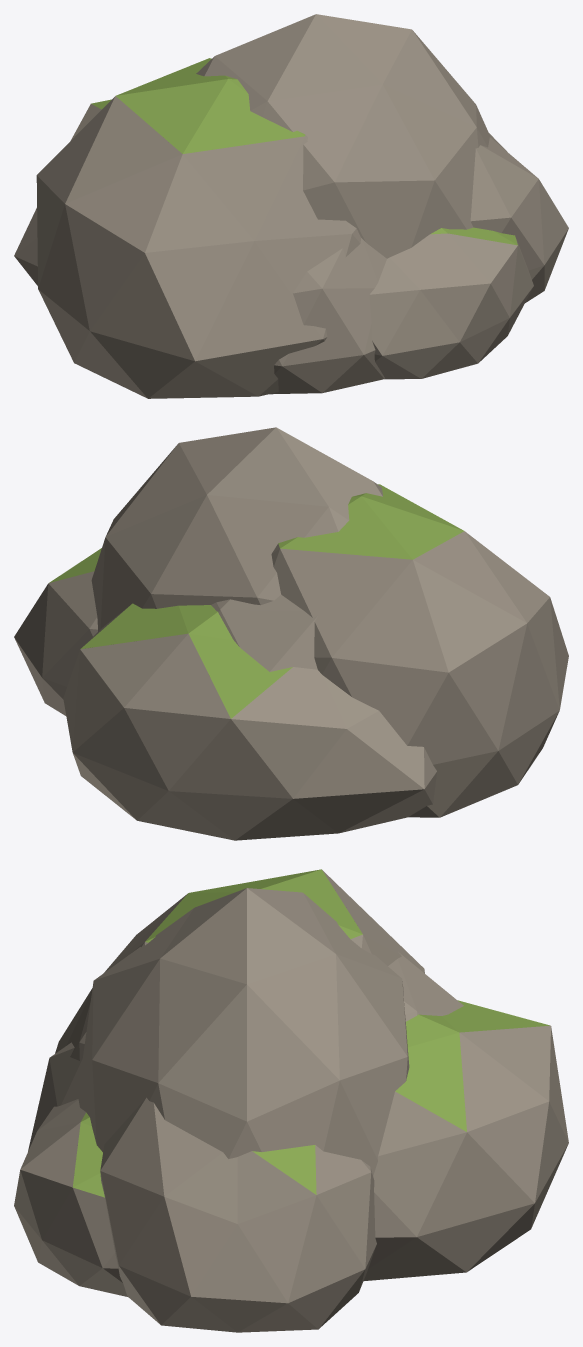
Rendered from cliff.glb.
The picture shows the model from 3 angles, top to bottom: view 1: azimuth 30°, elevation 25°; view 2: azimuth 150°, elevation 25°; view 3: azimuth 270°, elevation 25°; orthographic projection. The views are drawn at different scales.
Parts seen in each view (by area): view 1: cliff_variant_1, cliff_variant_2; view 2: cliff_variant_2, cliff_variant_1, cliff_variant_0; view 3: cliff_variant_2, cliff_variant_1, cliff_variant_0.
Boxes of the visible parts, left/top/right/bottom form: cliff_variant_1: left=36, top=58, right=533, bottom=398; cliff_variant_2: left=14, top=14, right=568, bottom=394; cliff_variant_2: left=14, top=427, right=436, bottom=840; cliff_variant_1: left=271, top=484, right=568, bottom=817; cliff_variant_0: left=209, top=594, right=318, bottom=675; cliff_variant_2: left=28, top=888, right=568, bottom=1332; cliff_variant_1: left=14, top=869, right=424, bottom=1296; cliff_variant_0: left=388, top=952, right=463, bottom=1021.
Bounding box in the file's own units: 0.2867 × 0.177 × 0.2483.
